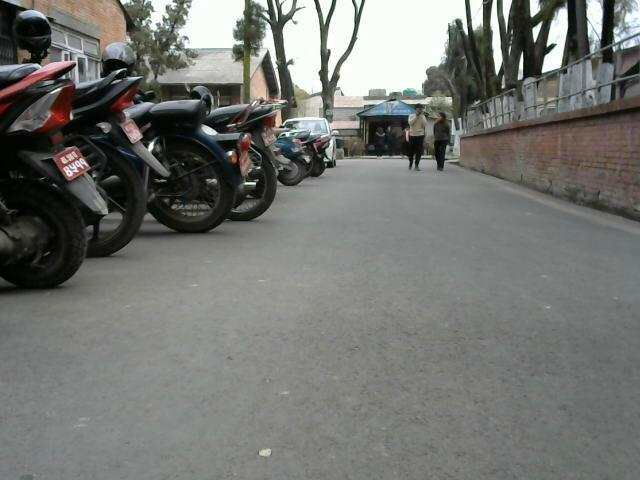Car: (2, 40, 311, 286)
Person: (433, 109, 461, 176), (409, 94, 428, 185)
Road: (217, 163, 638, 480)
